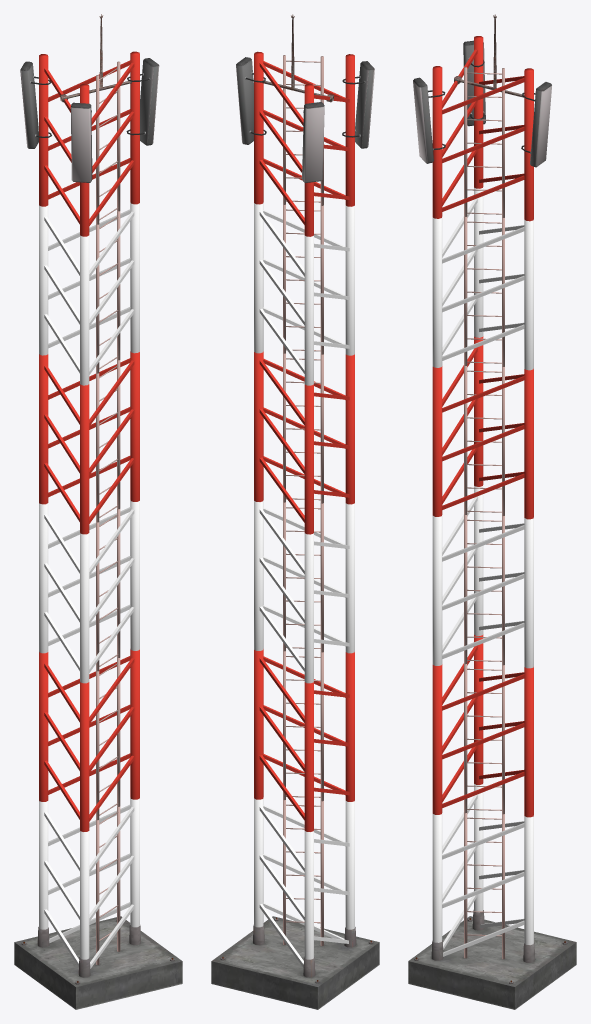
Rendered from radio_tower.glb.
The picture shows the model from 3 angles, left to right: view 1: azimuth 30°, elevation 25°; view 2: azimuth 150°, elevation 25°; view 3: azimuth 330°, elevation 25°; orthographic projection.
Parts seen in each view (by area): view 1: Tower.004_Tower_color01_0, Tower.005_Tower_color02_0, Base_Base_0, Stairs.005_Stairs_0, Sectorial.002_Sectorial_0, Energy_Energy_0; view 2: Tower.004_Tower_color01_0, Tower.005_Tower_color02_0, Base_Base_0, Stairs.005_Stairs_0, Sectorial.002_Sectorial_0, Energy_Energy_0; view 3: Tower.005_Tower_color02_0, Tower.004_Tower_color01_0, Base_Base_0, Stairs.005_Stairs_0, Sectorial.002_Sectorial_0, Energy_Energy_0.
Part boxes in pixels (left/top/right/bottom): Tower.004_Tower_color01_0: left=39, top=202, right=139, bottom=968; Tower.005_Tower_color02_0: left=39, top=51, right=139, bottom=831; Base_Base_0: left=14, top=916, right=182, bottom=1009; Stairs.005_Stairs_0: left=96, top=61, right=120, bottom=964; Sectorial.002_Sectorial_0: left=20, top=58, right=159, bottom=182; Energy_Energy_0: left=60, top=14, right=131, bottom=102; Tower.004_Tower_color01_0: left=254, top=202, right=354, bottom=967; Tower.005_Tower_color02_0: left=254, top=51, right=354, bottom=831; Base_Base_0: left=211, top=916, right=379, bottom=1009; Stairs.005_Stairs_0: left=283, top=55, right=323, bottom=946; Sectorial.002_Sectorial_0: left=236, top=57, right=374, bottom=182; Energy_Energy_0: left=262, top=14, right=333, bottom=102; Tower.005_Tower_color02_0: left=432, top=36, right=533, bottom=817; Tower.004_Tower_color01_0: left=432, top=187, right=533, bottom=956; Base_Base_0: left=408, top=910, right=576, bottom=1009; Stairs.005_Stairs_0: left=464, top=67, right=504, bottom=959; Sectorial.002_Sectorial_0: left=413, top=40, right=551, bottom=167; Energy_Energy_0: left=454, top=14, right=524, bottom=97.
Size of what is drawn, in the model's own units: 154 by 1290 by 153.
6 materials, 3 textured.
